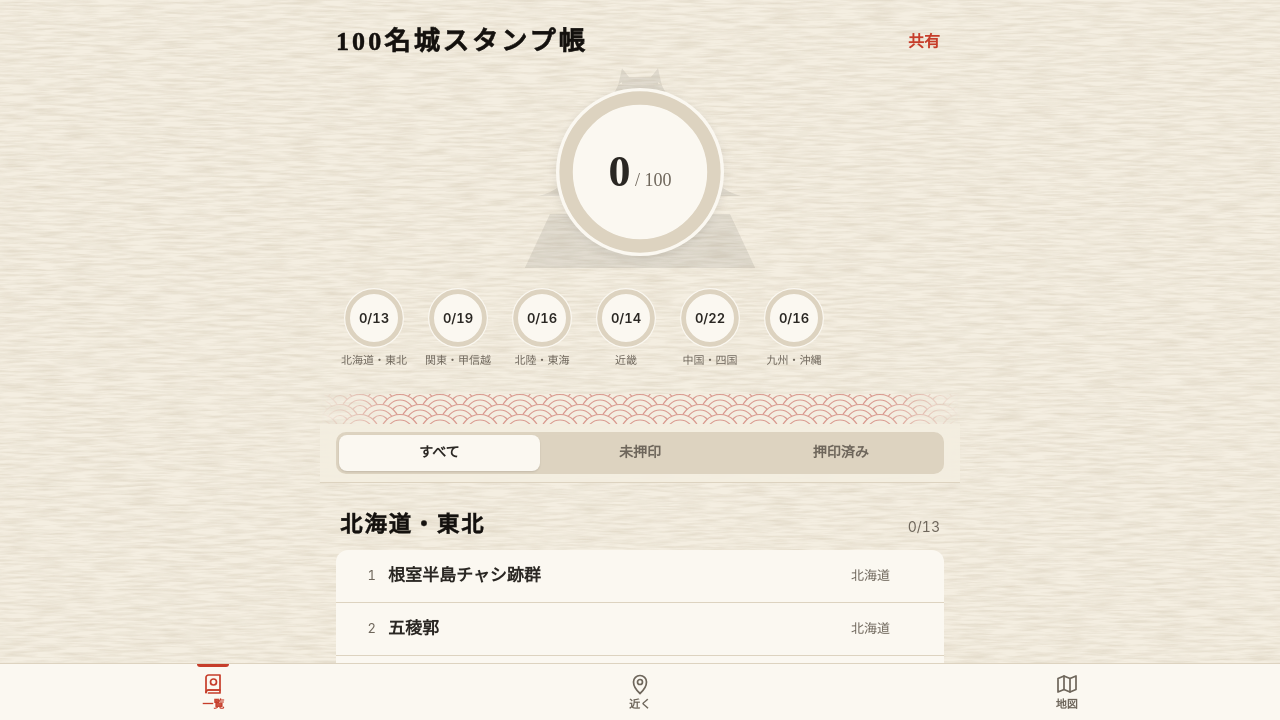
it: App › 絞り込み › 選んだ絞り込みを表示に反映し、保存する
Click the button "押印済み": [841, 453] box [740,435,941,471]
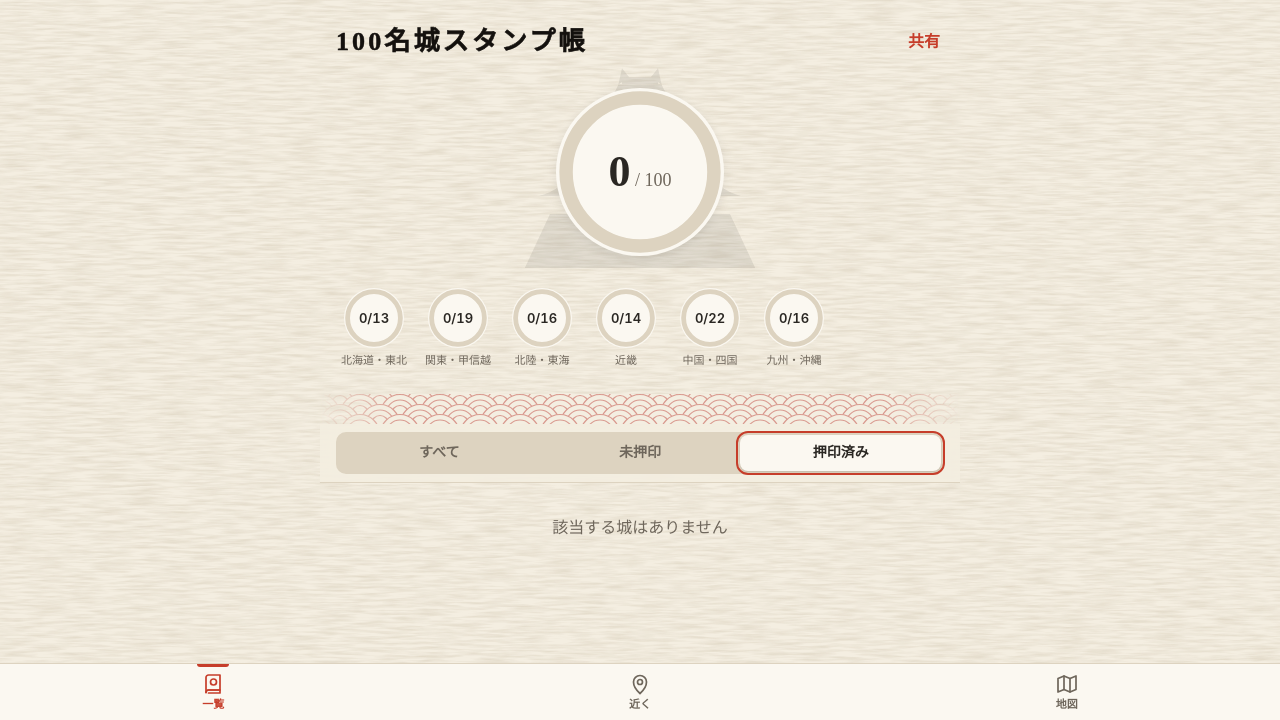
Now the text "該当する城はありません" is shown, box [552,517,728,537]
